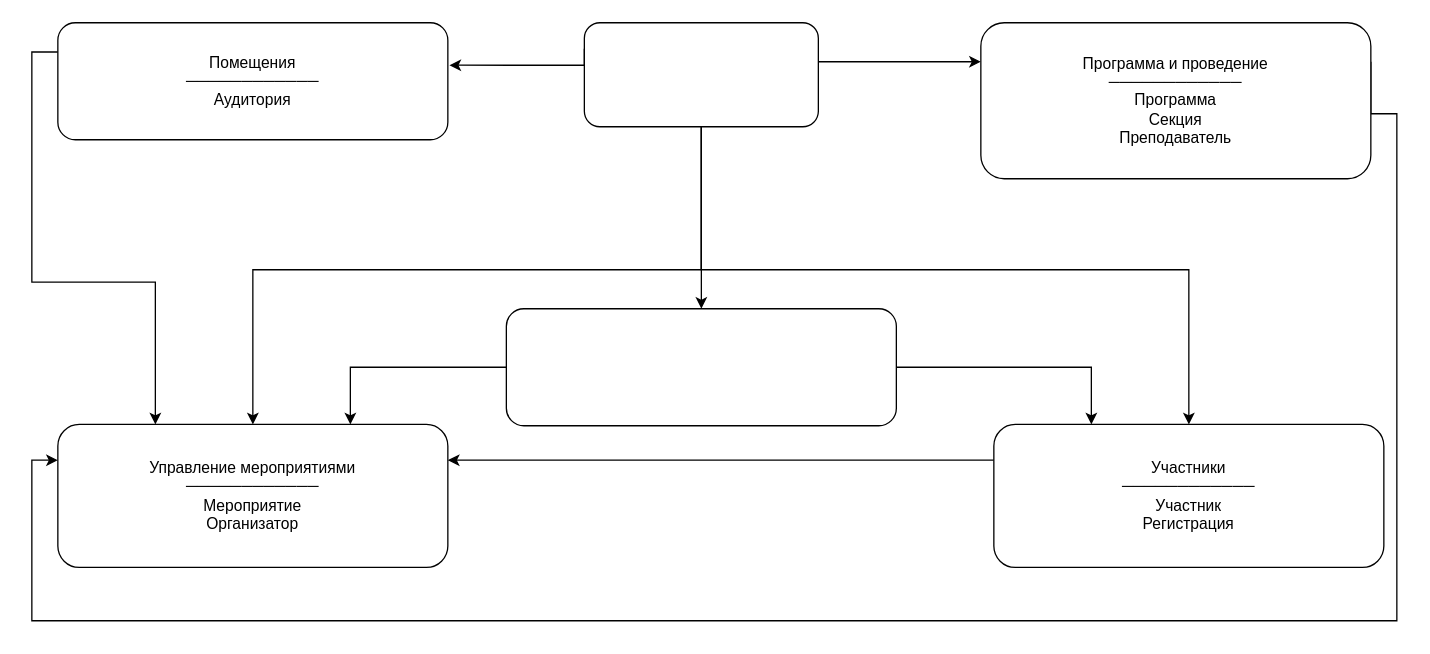
Some shapes in this 1430 by 654 pixel diagram are drawn without their labels. The centre of each missing label's shape, as x and y in pixels:
UI: pixel 700 74
Результаты ──────────── Сертификат: pixel 700 366
